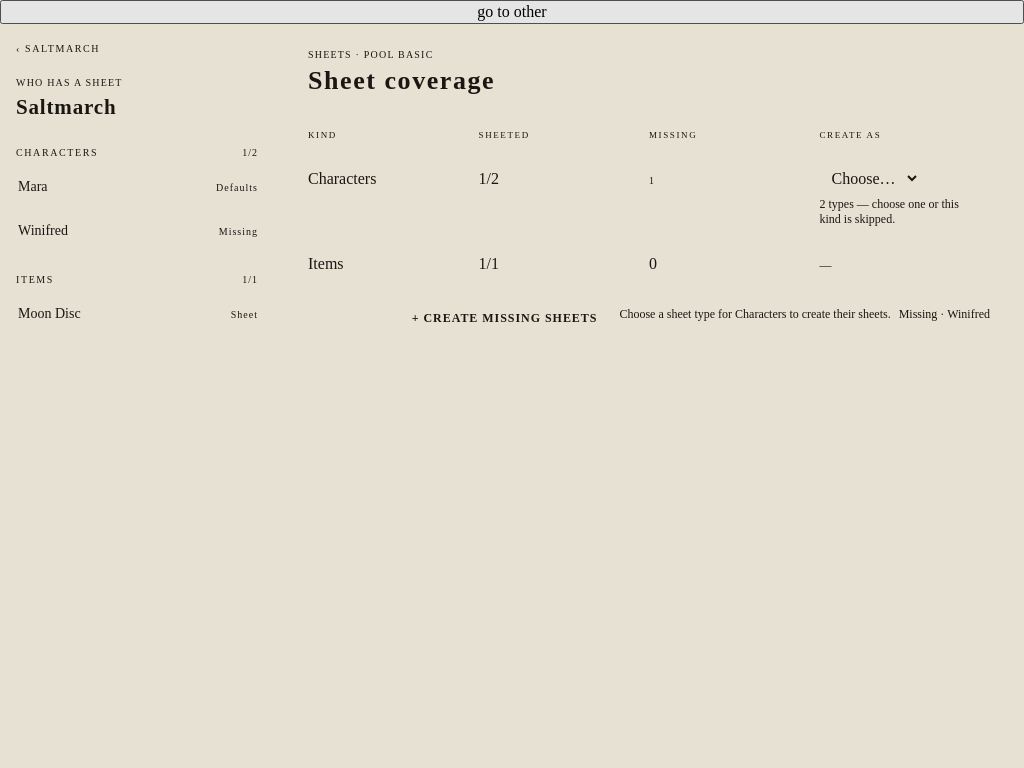
the palette offers the members still missing a sheet, not this page
Expected: the heading "Sheet coverage" is shown, [308,66,495,95]
Press k
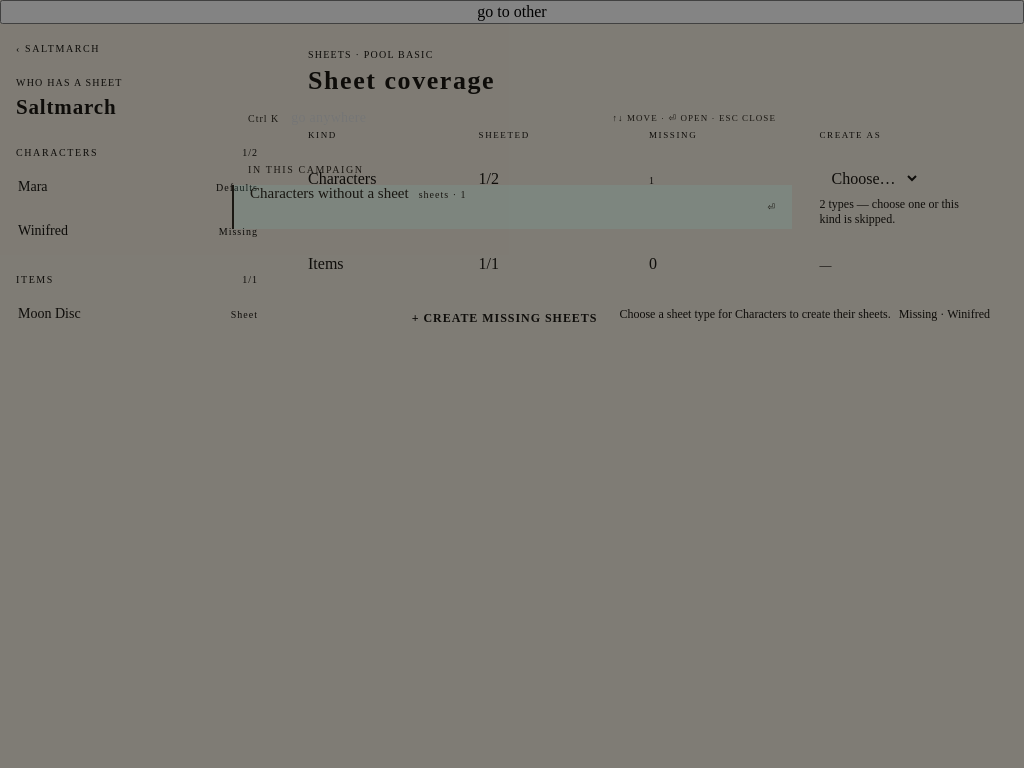
Click the text "Characters without a sheet".
click(329, 194)  # box [250,185,409,202]
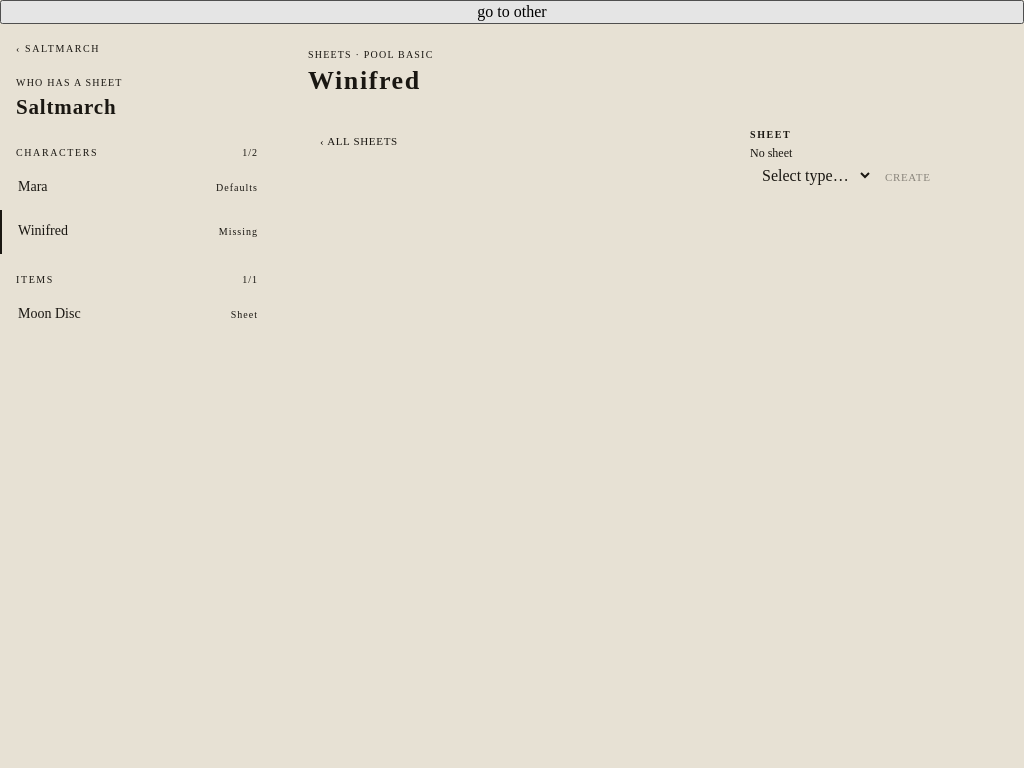
Now the heading "Winifred" is shown, box [308,66,434,95]
